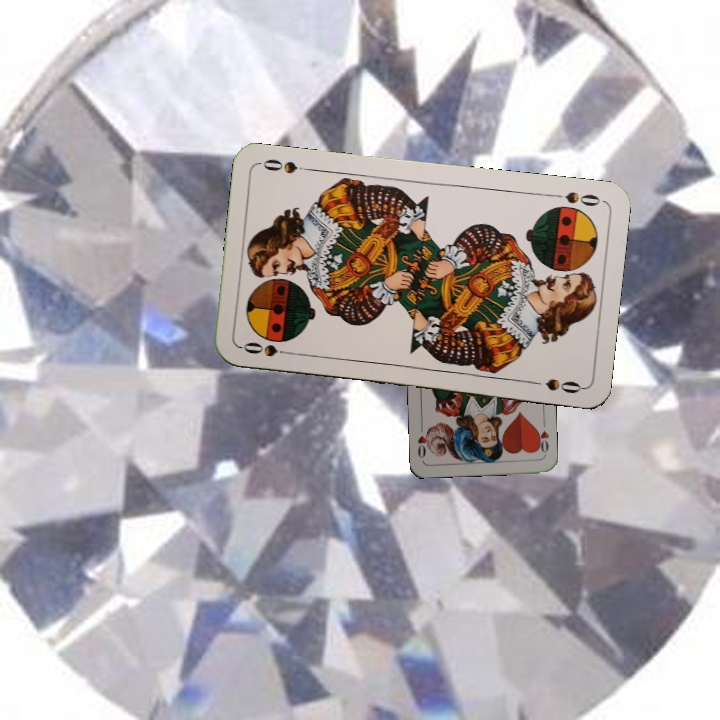HO: (533, 417, 551, 457)
SO: (238, 338, 297, 360), (561, 187, 603, 209)
